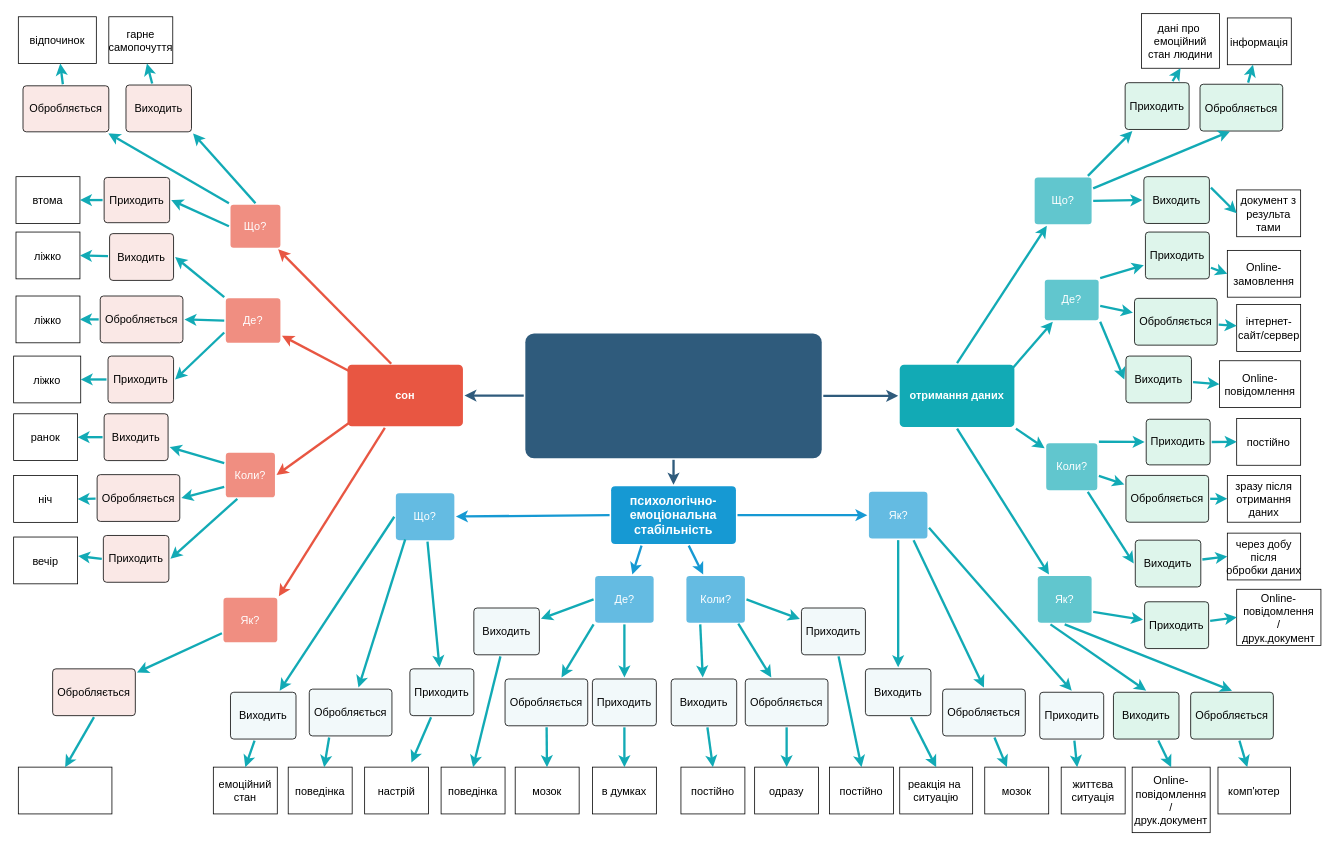
This 1335x846 diagram has some shape labels left out. Here are the shapes that lost their labels. From the top down, the centre of each, then its label:
the point at 673,395: Потреба у отриманні даних впливу сну на психологічно-емоціональну стабільність
the point at 65,790: людина
